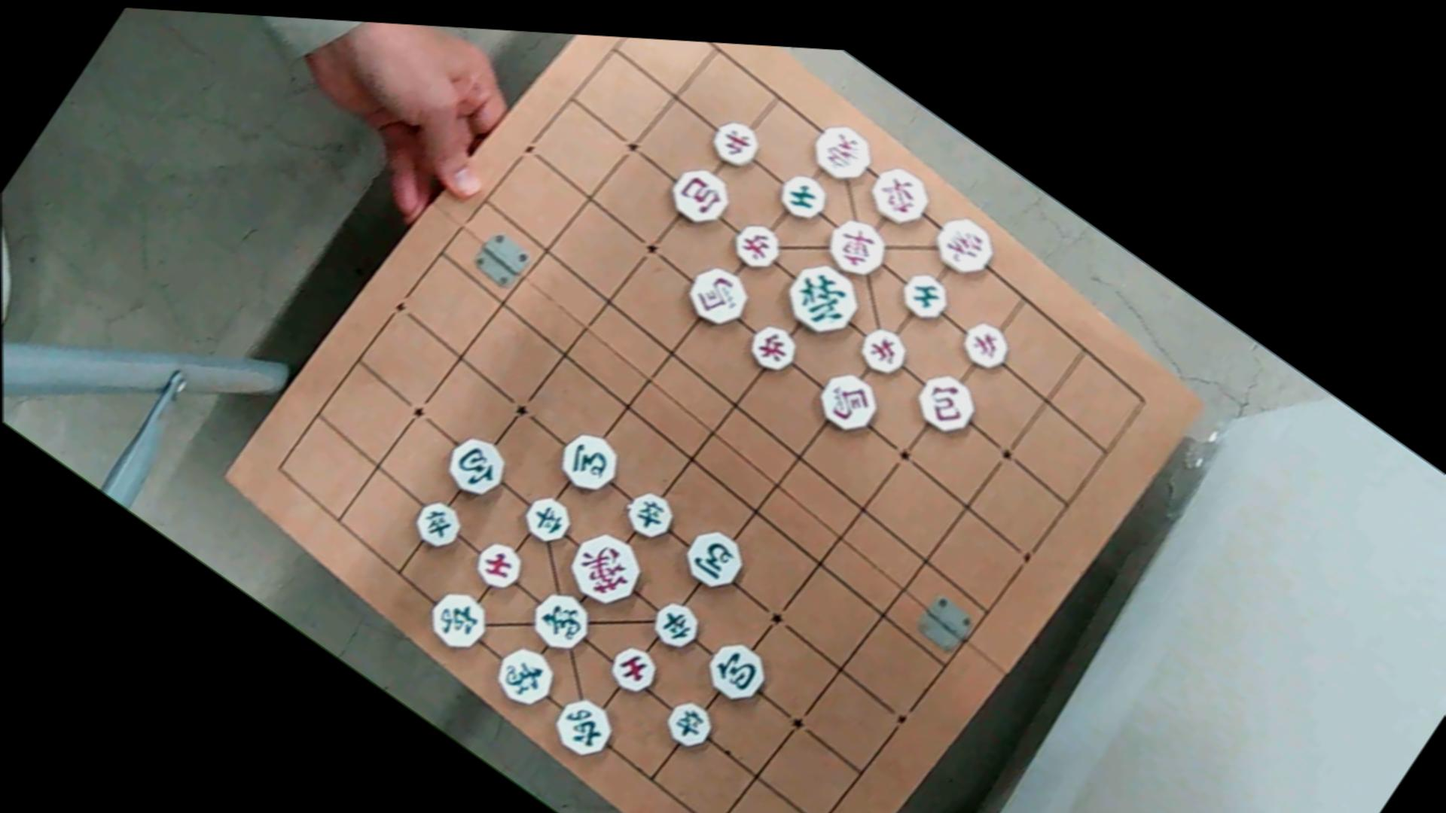cha_green: (543, 689, 622, 770), (423, 584, 498, 662)
cha_red: (819, 210, 894, 287), (862, 158, 937, 233)
jol_green: (620, 484, 682, 547), (517, 489, 578, 553), (648, 594, 710, 656), (409, 495, 470, 557), (658, 696, 718, 757)
jol_red: (745, 318, 806, 379), (957, 315, 1017, 376), (727, 218, 787, 279), (854, 323, 914, 382), (707, 116, 766, 175)
ma_green: (678, 522, 754, 601), (551, 425, 627, 503)
ma_red: (682, 261, 756, 337), (814, 366, 886, 440)
po_green: (437, 426, 513, 503), (699, 635, 775, 711)
po_red: (910, 367, 984, 443), (663, 162, 737, 236)
sa_green: (896, 266, 957, 328), (772, 166, 833, 228)
sa_red: (603, 638, 664, 699), (470, 535, 530, 596)
sang_green: (484, 635, 564, 717), (526, 583, 602, 661)
sang_red: (927, 211, 1003, 287), (802, 116, 877, 191)
wang_green: (776, 252, 867, 348)
wang_red: (558, 523, 649, 617)
